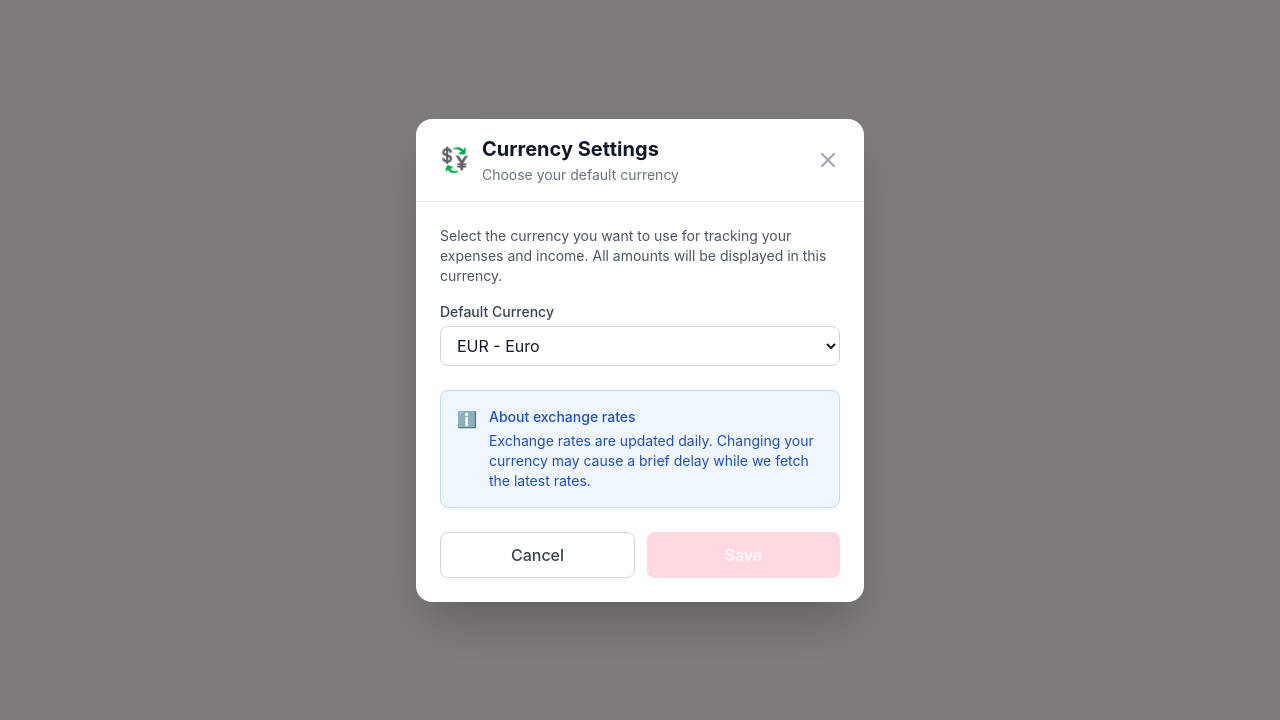
Test: CurrencySettingsModal › Save Functionality › enables Save button when currency is changed
Select a different currency
Select "USD - US Dollar" in the dropdown. click: [640, 346]
box: left=440, top=326, right=840, bottom=366
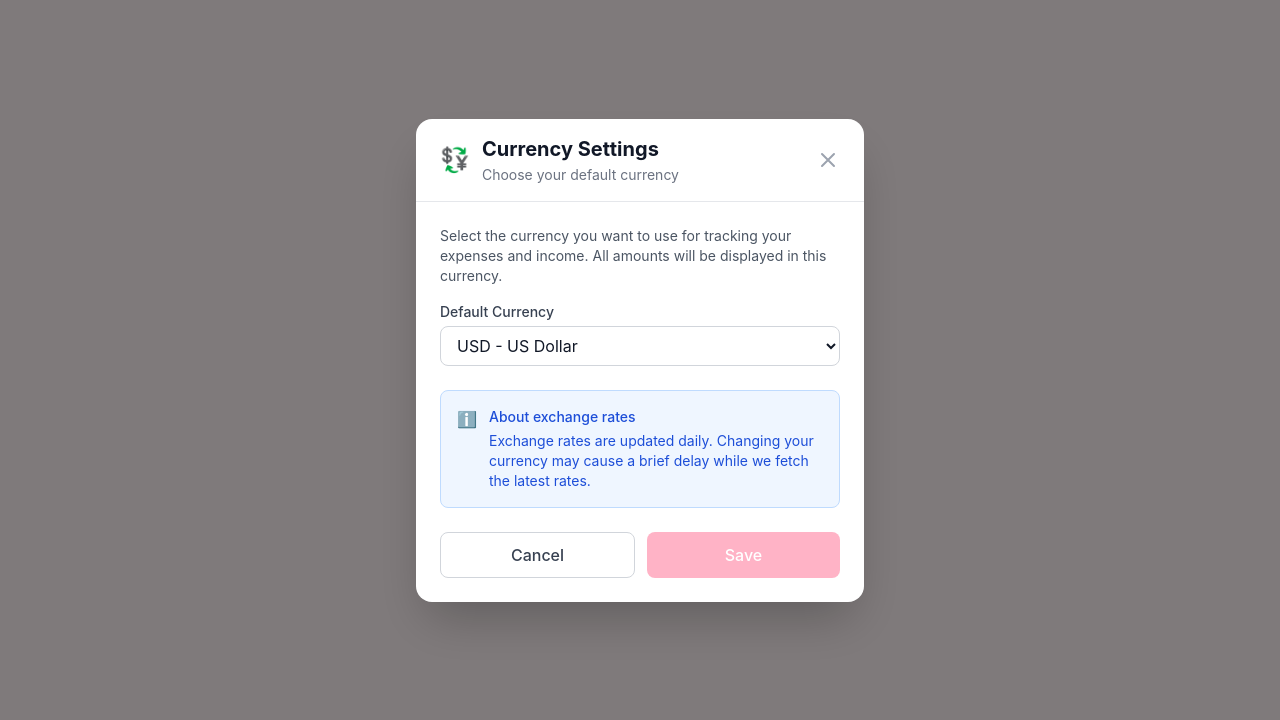
Now the button "Save" is enabled, box left=647, top=532, right=840, bottom=578
